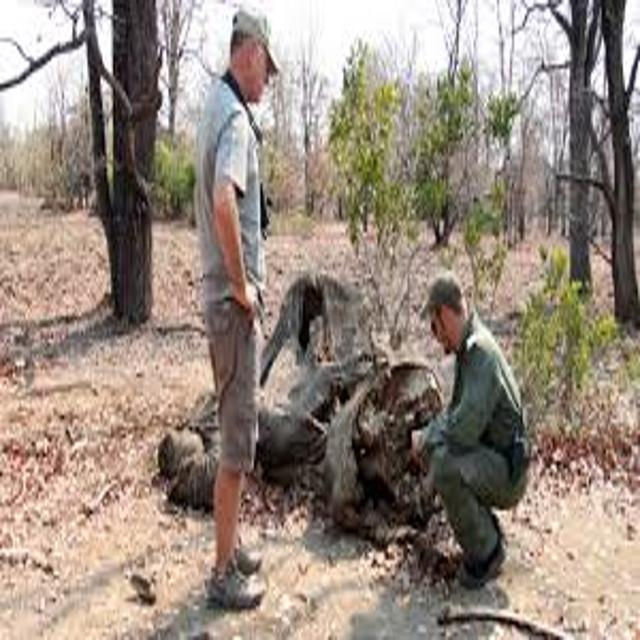poacher: (103, 1, 370, 639), (348, 237, 561, 612)
